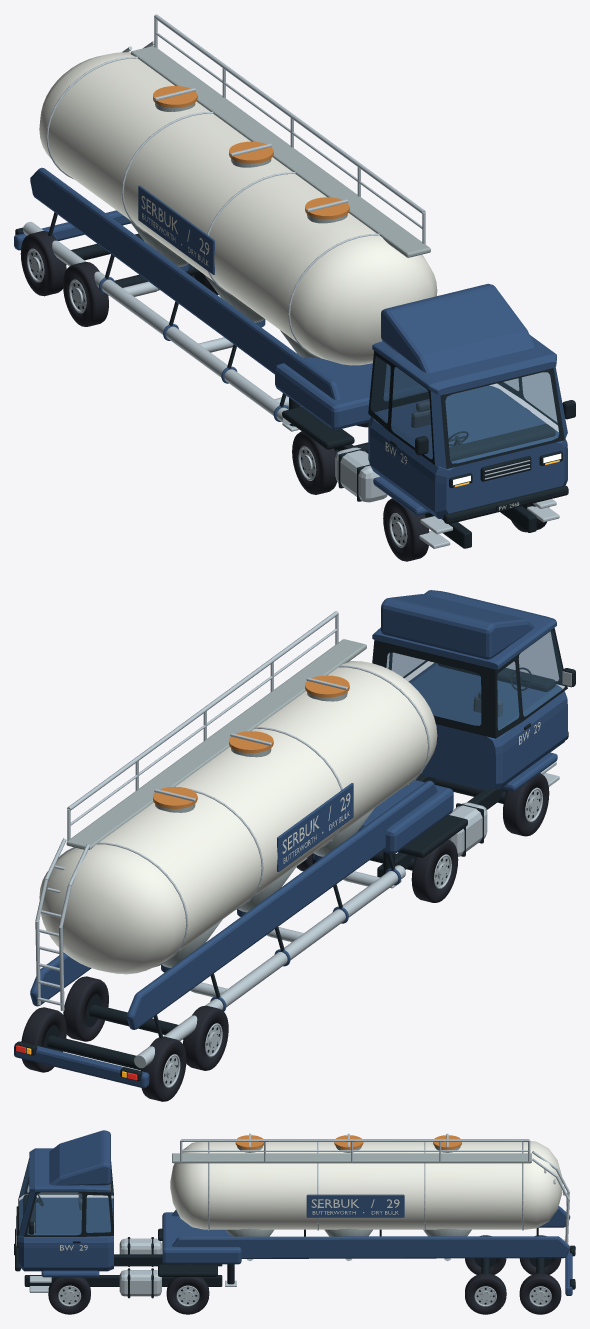
3 renders of one model, top to bottom at view 1: azimuth 30°, elevation 25°; view 2: azimuth 150°, elevation 25°; view 3: azimuth 270°, elevation 25°, orthographic. The views are drawn at different scales.
Visible parts, largest first — view 1: Butterworth Powder Bulker; view 2: Butterworth Powder Bulker; view 3: Butterworth Powder Bulker.
Boxes of the visible parts, x1=… form: Butterworth Powder Bulker: x1=14, y1=14, x2=575, y2=561; Butterworth Powder Bulker: x1=14, y1=590, x2=575, y2=1101; Butterworth Powder Bulker: x1=14, y1=1130, x2=575, y2=1314.
Bounding box in the file's own units: 2.63 × 4.1 × 12.4.
